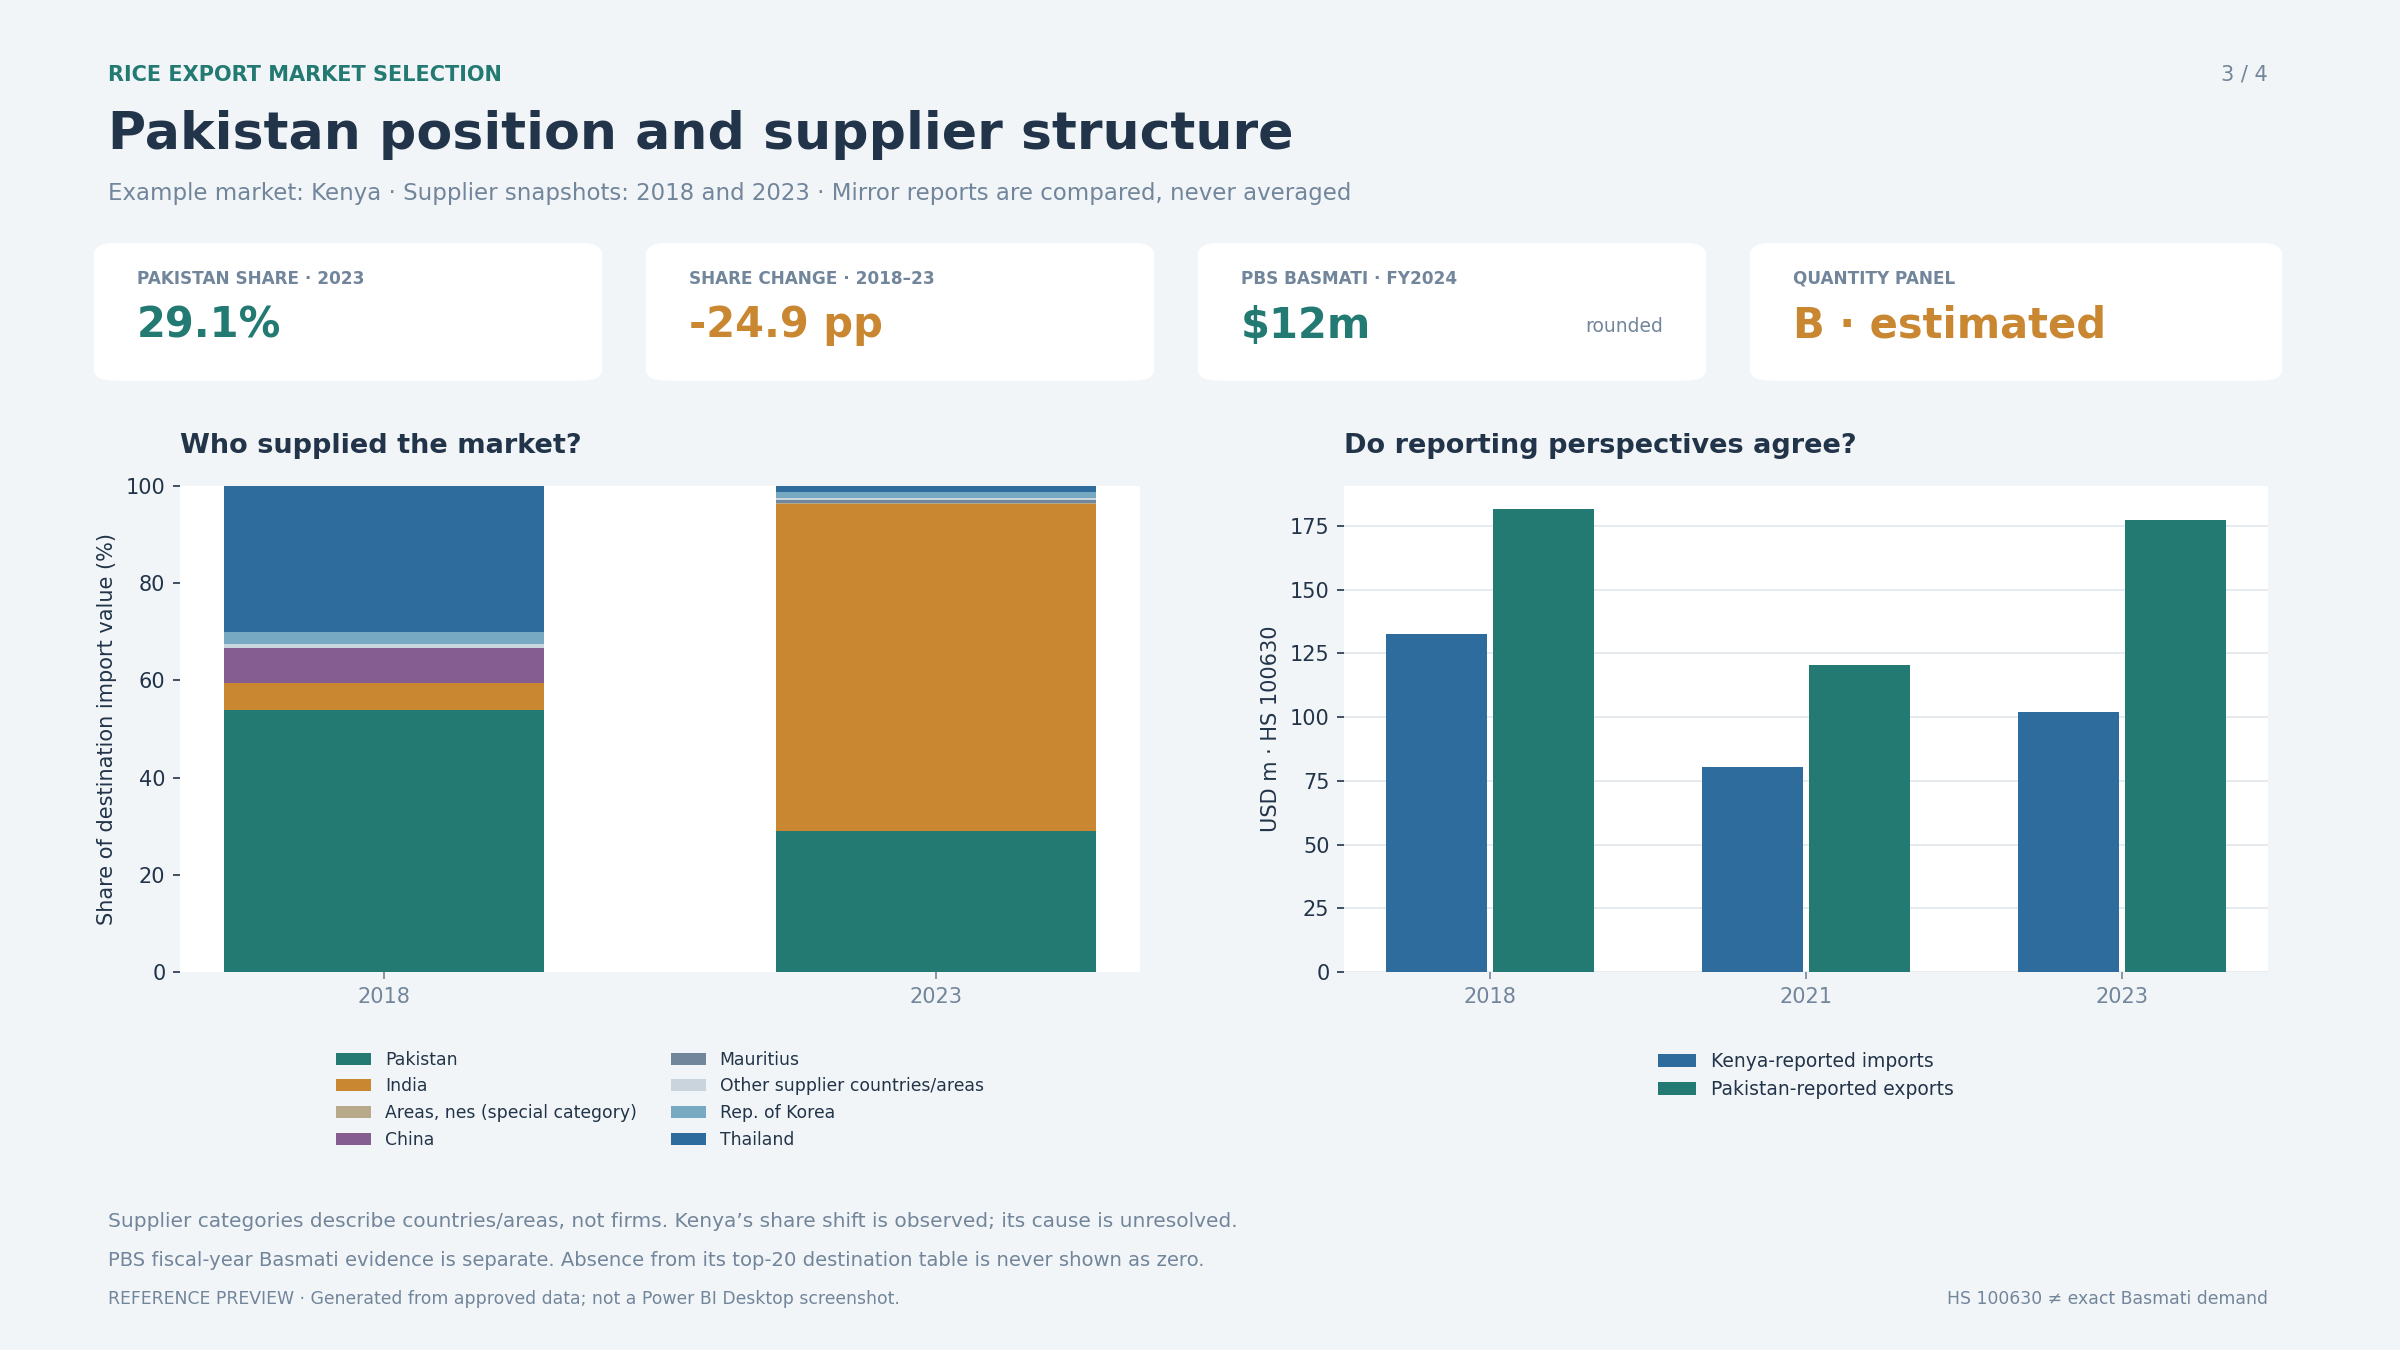

The dashboard page shown, as its layout file describes it:
{"tool":"powerbi","page":{"name":"Pakistan's competitive position ","canvas":[1920,1080],"ordinal":2},"visuals":[{"type":"shape","box":[0,0,1919.3,121.4],"z":0},{"type":"slicer","fields":{"Values":["Markets.Market"]},"box":[1706.7,151.8,201.7,101.9],"z":1000},{"type":"columnChart","title":"Supplier mix: 2018 vs. 2023","fields":{"Category":["SupplierShares.Year"],"Series":["SupplierShares.SupplierDisplay"],"Y":["Markets.Supplier share"]},"box":[58.6,253.7,824.1,474.9],"z":2000},{"type":"lineChart","title":"Importer vs. Pakistan-reported trade","fields":{"Category":["MirrorComparison.Year"],"Y":["Markets.Importer mirror USD m","Markets.Pakistan exporter mirror USD m"]},"box":[1060.5,253.7,826.3,474.9],"z":3000},{"type":"slicer","fields":{"Values":["PBSBasmati.FiscalYear"]},"box":[1732.8,750.4,153.7,120.9],"z":4000},{"type":"cardVisual","title":"Basmati export value","fields":{"Data":["Markets.PBS Basmati value USD m"]},"box":[58.6,841.4,824.1,151.8],"z":5000},{"type":"cardVisual","title":"Basmati export quantity","fields":{"Data":["Markets.PBS Basmati tonnes"]},"box":[1060.5,841.4,826.3,151.8],"z":6000},{"type":"textbox","title":"Pakistan''s competitive position","box":[32.5,15.2,737.3,132.3],"z":7000},{"type":"textbox","title":"Kenya Case Study","box":[32.5,147.5,1351.1,91.1],"z":8000},{"type":"textbox","box":[58.6,795.9,548.7,60.7],"z":9000},{"type":"cardVisual","fields":{"Data":["Markets.PBS context note"]},"box":[32.5,1014.9,1062.7,65.1],"z":10001}]}

Visuals, with their boxes in screenshot pixels (x1, y1, x2, y2), scaled from the page's 1920x1080 canvas onto the 2400x1350 screenshot:
shape: {"x1": 0, "y1": 0, "x2": 2399, "y2": 152}
slicer - Markets.Market: {"x1": 2133, "y1": 190, "x2": 2386, "y2": 317}
"Supplier mix: 2018 vs. 2023" columnChart: {"x1": 73, "y1": 317, "x2": 1103, "y2": 911}
"Importer vs. Pakistan-reported trade" lineChart: {"x1": 1326, "y1": 317, "x2": 2358, "y2": 911}
slicer - PBSBasmati.FiscalYear: {"x1": 2166, "y1": 938, "x2": 2358, "y2": 1089}
"Basmati export value" cardVisual: {"x1": 73, "y1": 1052, "x2": 1103, "y2": 1242}
"Basmati export quantity" cardVisual: {"x1": 1326, "y1": 1052, "x2": 2358, "y2": 1242}
"Pakistan''s competitive position" textbox: {"x1": 41, "y1": 19, "x2": 962, "y2": 184}
"Kenya Case Study" textbox: {"x1": 41, "y1": 184, "x2": 1730, "y2": 298}
textbox: {"x1": 73, "y1": 995, "x2": 759, "y2": 1071}
cardVisual - Markets.PBS context note: {"x1": 41, "y1": 1269, "x2": 1369, "y2": 1349}
